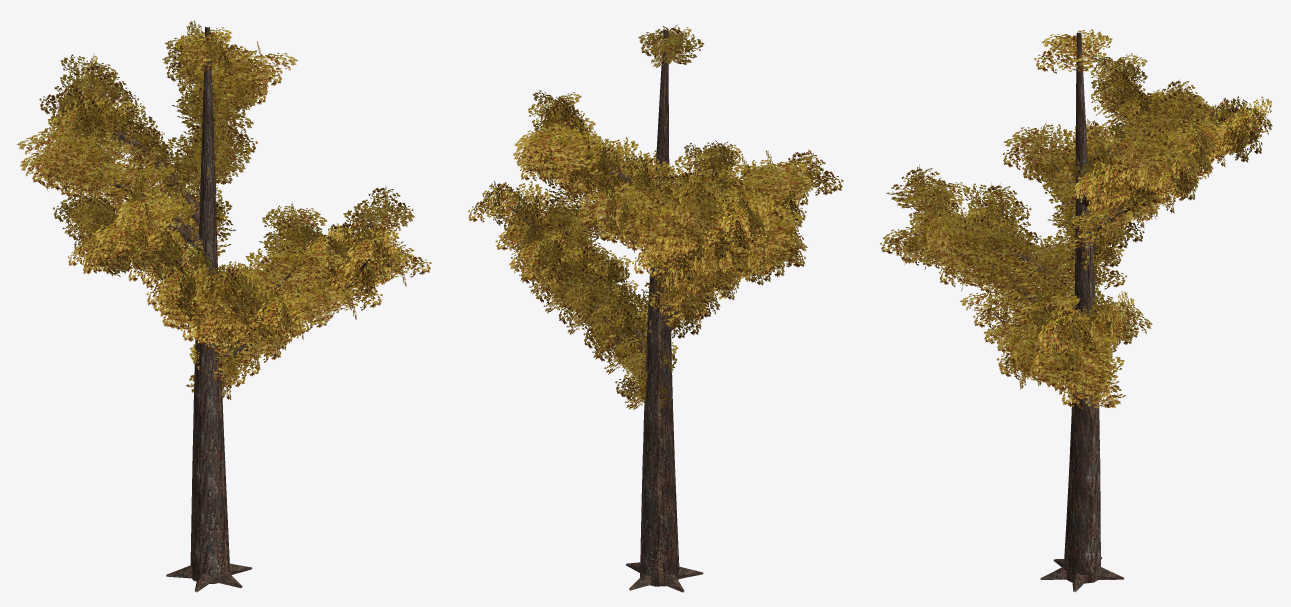
The model's file is tree_3d_01_yellow_lod0.glb.
3 renders of one model, left to right at view 1: azimuth 30°, elevation 25°; view 2: azimuth 150°, elevation 25°; view 3: azimuth 270°, elevation 25°, orthographic.
Visible parts, largest first — view 1: foliage_cards, wood_geometry; view 2: foliage_cards, wood_geometry; view 3: foliage_cards, wood_geometry.
Boxes of the visible parts, x1=… form: foliage_cards: x1=17, y1=20, x2=431, y2=399; wood_geometry: x1=71, y1=26, x2=394, y2=592; foliage_cards: x1=468, y1=24, x2=843, y2=410; wood_geometry: x1=508, y1=29, x2=768, y2=592; foliage_cards: x1=880, y1=29, x2=1272, y2=417; wood_geometry: x1=924, y1=32, x2=1240, y2=592.
Bounding box in the file's own units: 6.77 × 10.07 × 6.7.
Materials: 2 (2 with a texture image).
